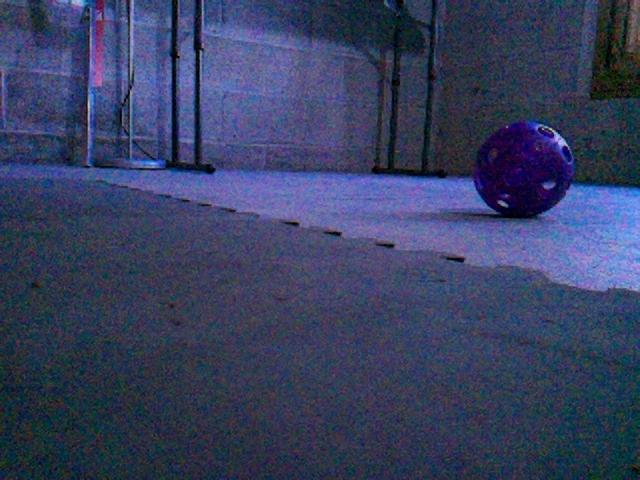Purple: (470, 119, 576, 219)
